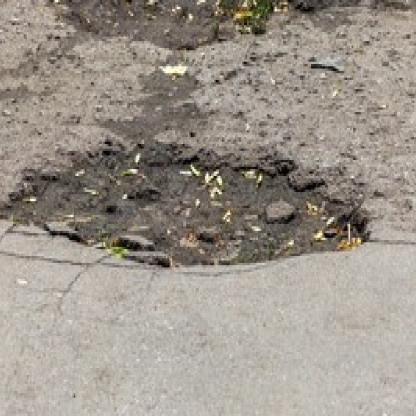pothole: (0, 147, 371, 268), (60, 0, 308, 53)
